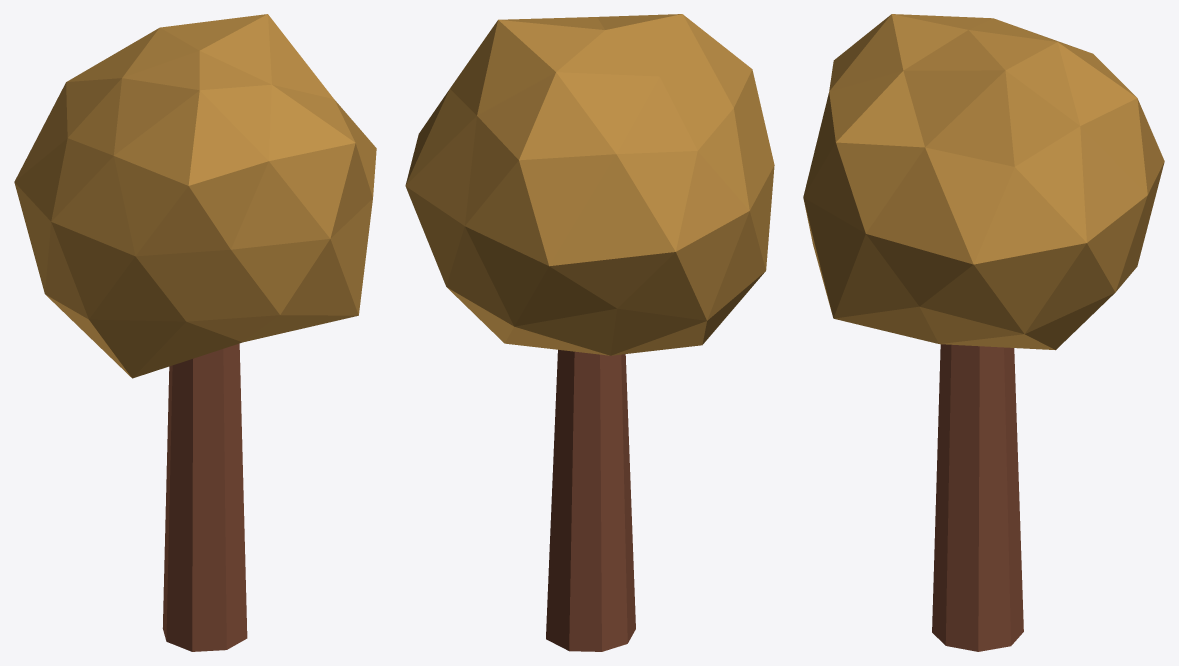
File: Tree_04_autumn_mat.fbx
3 renders of one model, left to right at view 1: azimuth 30°, elevation 25°; view 2: azimuth 150°, elevation 25°; view 3: azimuth 270°, elevation 25°, orthographic. The views are drawn at different scales.
Parts seen in each view (by area): view 1: Tree_04_autumn_mat; view 2: Tree_04_autumn_mat; view 3: Tree_04_autumn_mat.
Boxes of the visible parts, <box> form: Tree_04_autumn_mat: <box>14,14,376,651</box>; Tree_04_autumn_mat: <box>405,14,774,651</box>; Tree_04_autumn_mat: <box>803,14,1164,651</box>.
Size of the model in its own units: 4.43 by 7.71 by 4.21.
